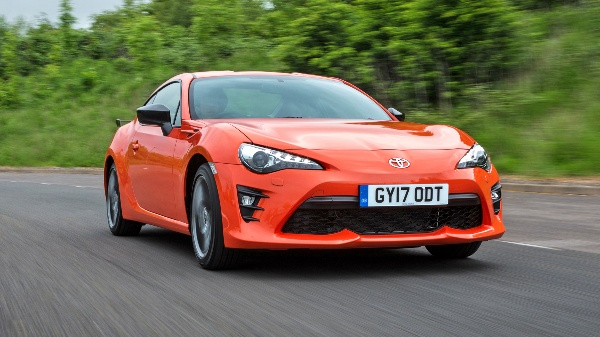licence: (356, 183, 451, 207)
